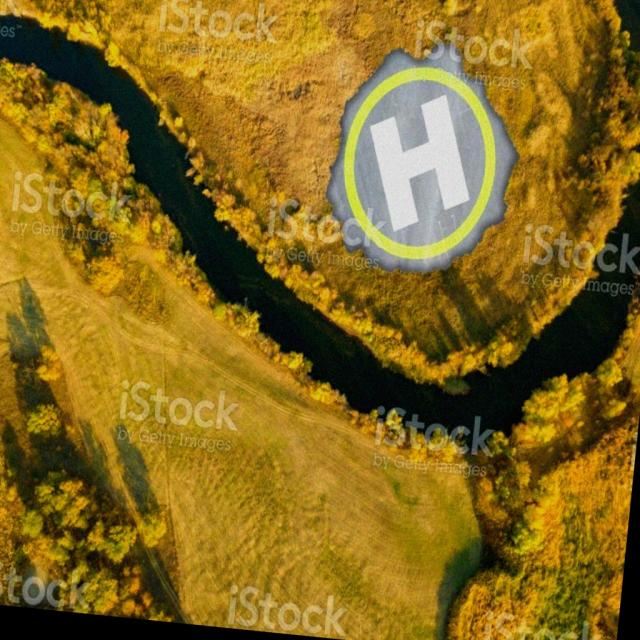helipad: (339, 60, 500, 263)
